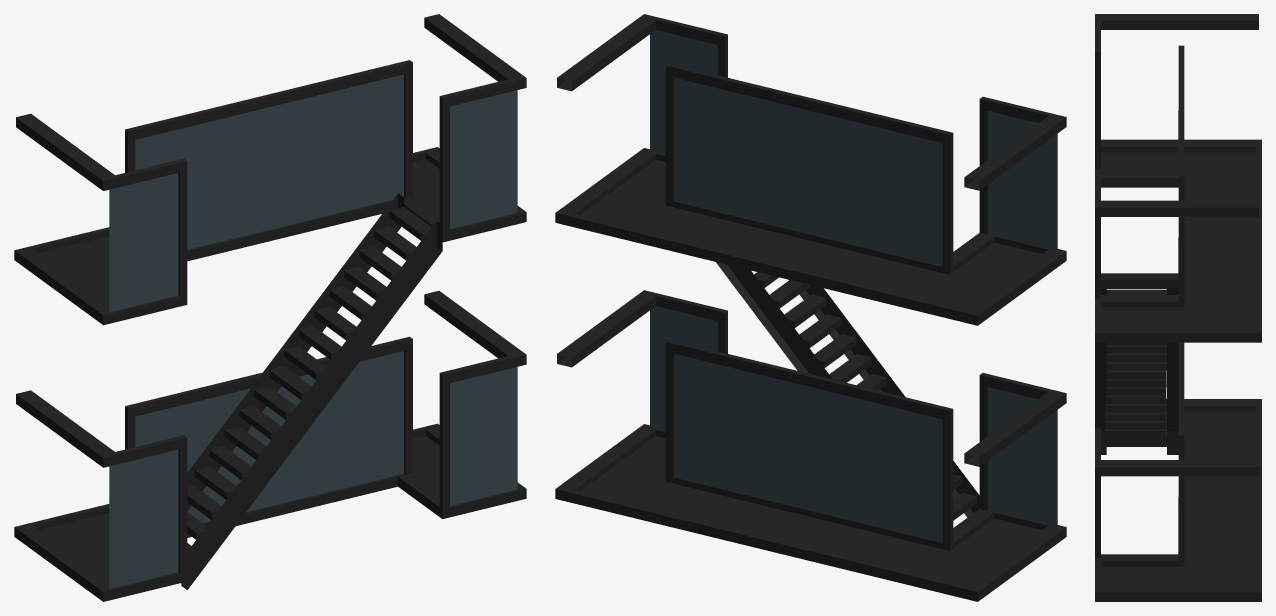
File: fire_escape.fbx
The picture shows the model from 3 angles, left to right: view 1: azimuth 30°, elevation 25°; view 2: azimuth 150°, elevation 25°; view 3: azimuth 270°, elevation 25°; orthographic projection. The views are drawn at different scales.
Parts seen in each view (by area): view 1: Plane, Plane.001, Plane.002; view 2: Plane.001, Plane, Plane.002; view 3: Plane, Plane.001, Plane.002.
Boxes of the visible parts, x1,y1,x2,y2 form: Plane: [14, 14, 526, 325]; Plane.001: [14, 291, 526, 601]; Plane.002: [181, 193, 442, 589]; Plane.001: [555, 290, 1066, 601]; Plane: [555, 14, 1066, 325]; Plane.002: [716, 262, 979, 520]; Plane: [1095, 14, 1261, 342]; Plane.001: [1095, 273, 1261, 601]; Plane.002: [1095, 288, 1178, 454].
Bounding box in the file's own units: 1201 × 1165 × 437.
